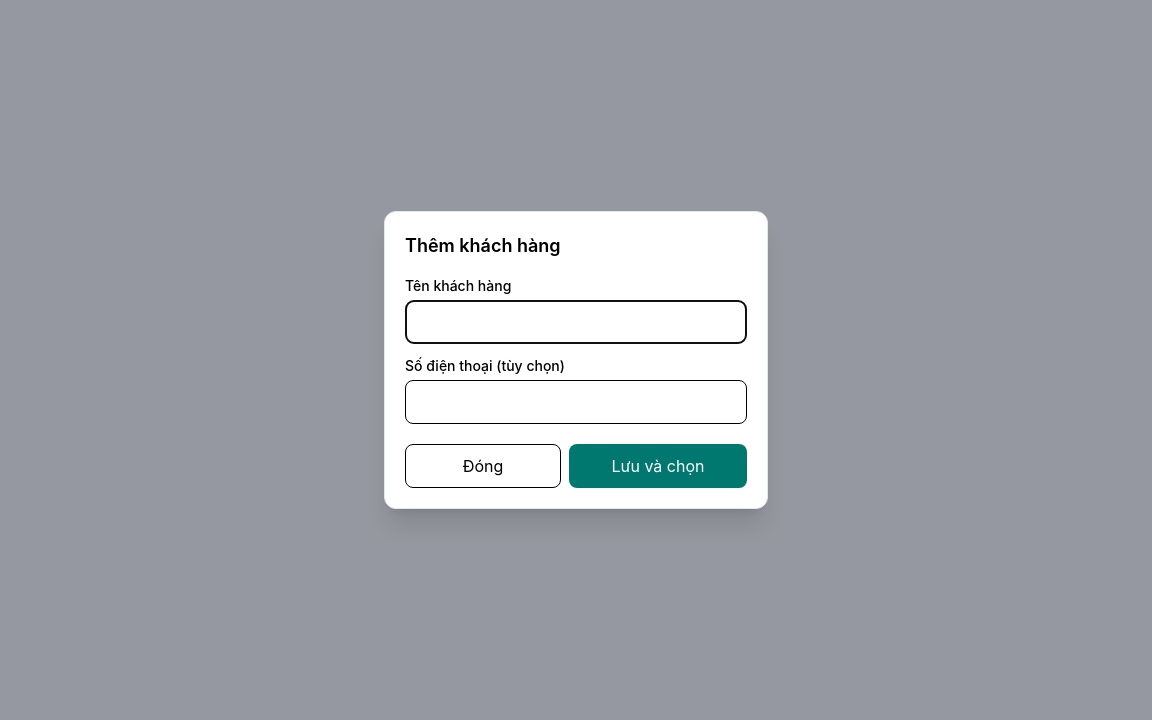
Test case: keeps editable form after a definitive rejection
Type "  Mai  " into the field labelled "Tên khách hàng" at (576, 322), box [405, 300, 747, 344]
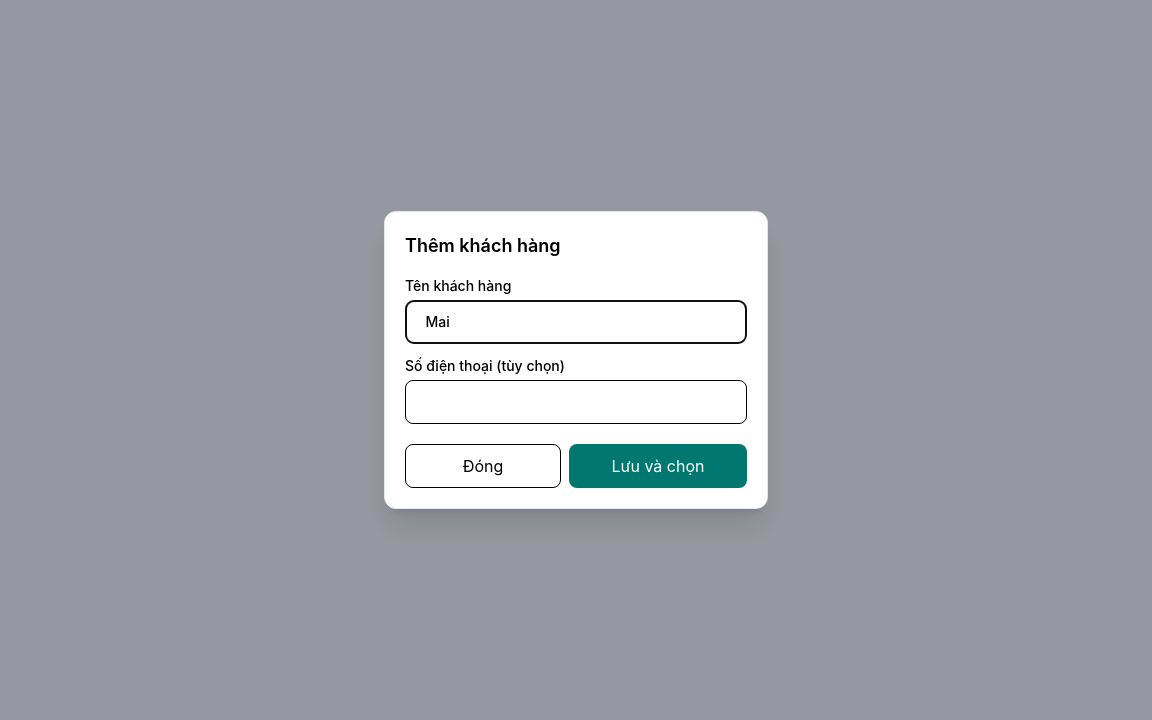
Type "0912345678" into the field labelled "Số điện thoại (tùy chọn)" at (576, 402), box [405, 380, 747, 424]
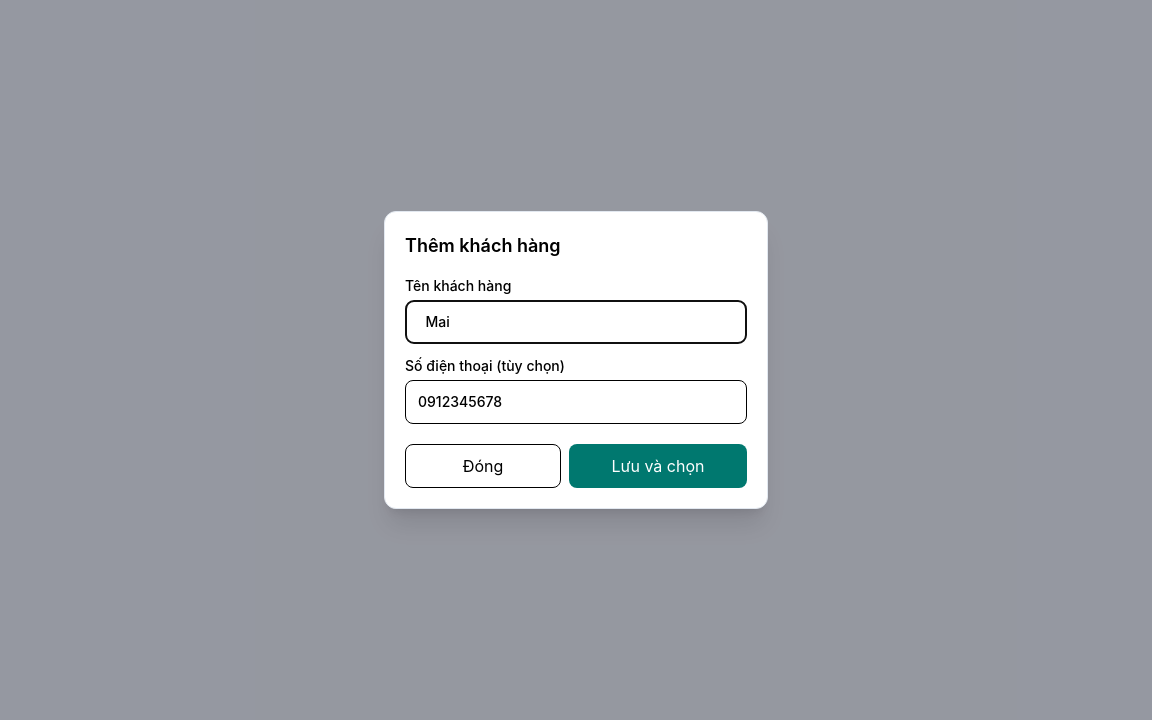
Click the button "Lưu và chọn" at (658, 466), box [569, 444, 747, 488]
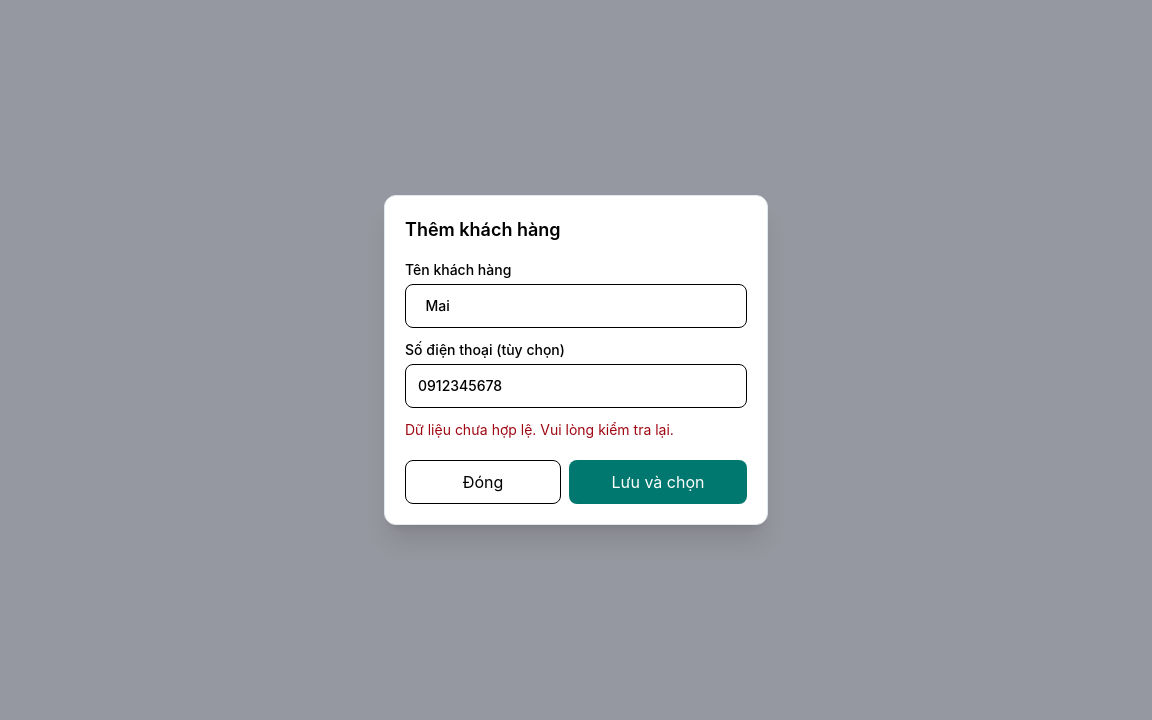
Expected: the field labelled "Tên khách hàng" is enabled, [405, 284, 747, 328]
Result: the message "Dữ liệu chưa hợp lệ. Vui lòng kiểm tra lại." is shown at [405, 421, 674, 438]
